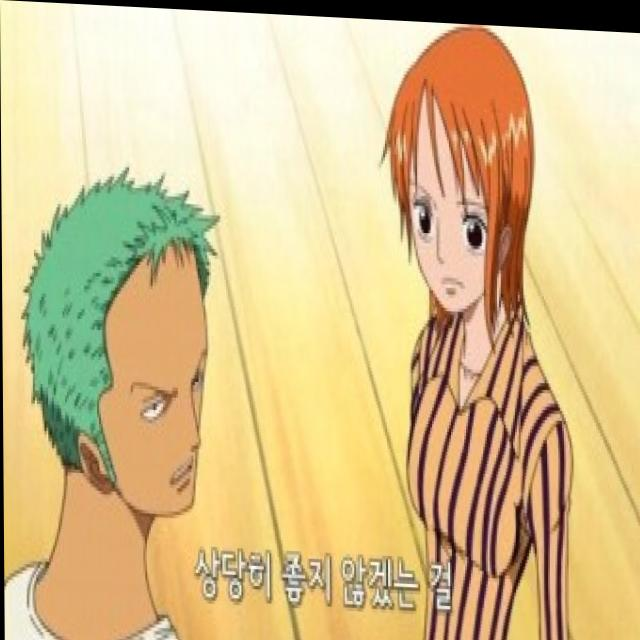Nami: (378, 25, 538, 328)
Zoro: (23, 136, 225, 525)
